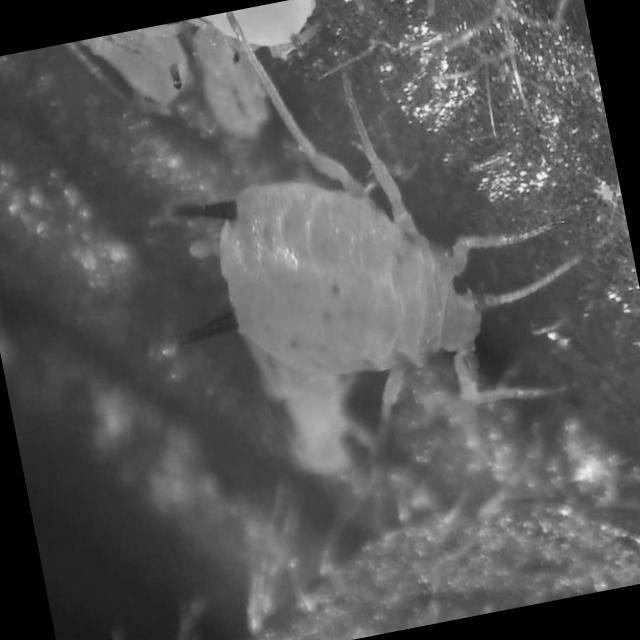Aphids: (137, 0, 639, 551)
